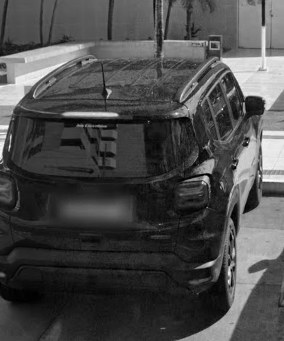car: (4, 52, 270, 308)
